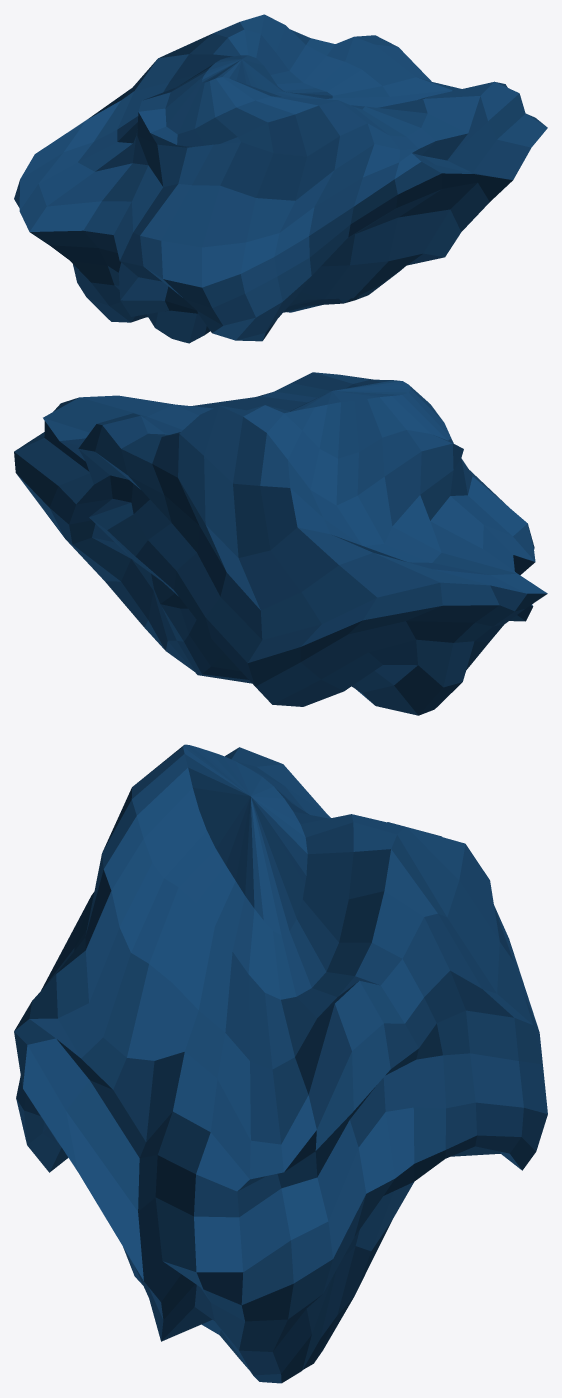
File: rock022.FBX
The picture shows the model from 3 angles, top to bottom: view 1: azimuth 30°, elevation 25°; view 2: azimuth 150°, elevation 25°; view 3: azimuth 270°, elevation 25°; orthographic projection. The views are drawn at different scales.
Parts seen in each view (by area): view 1: rock_022; view 2: rock_022; view 3: rock_022.
Boxes of the visible parts, x1,y1,x2,y2 form: rock_022: (14,14,547,343); rock_022: (14,372,547,715); rock_022: (14,744,547,1383).
Size of the model in its own units: 21.27 by 11.48 by 11.26.
